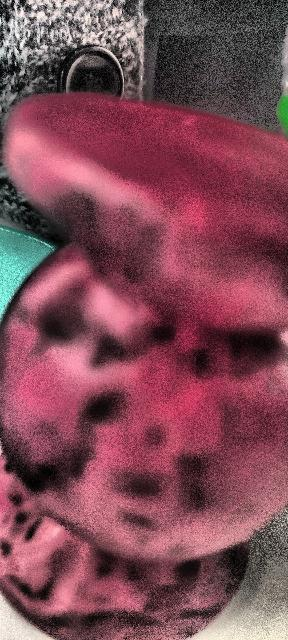red: (0, 90, 288, 636)
